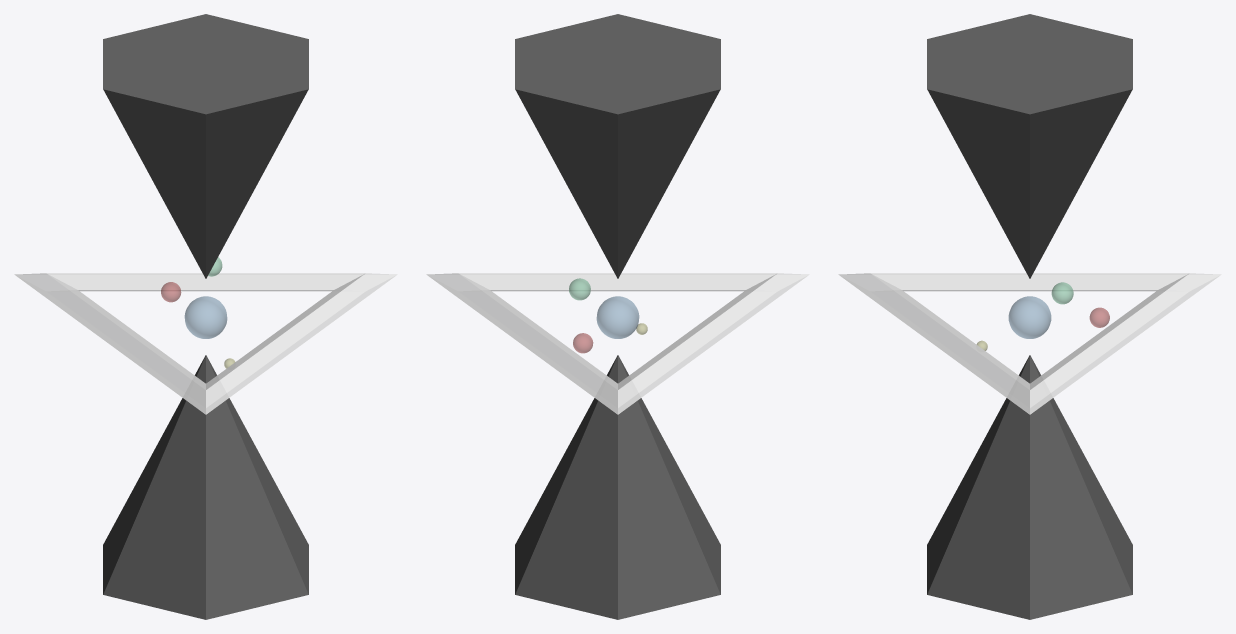
Rendered from orbit.fbx.
3 renders of one model, left to right at view 1: azimuth 30°, elevation 25°; view 2: azimuth 150°, elevation 25°; view 3: azimuth 270°, elevation 25°, orthographic.
Visible parts, largest first — view 1: pCone1, pTorus1, pSphere1; view 2: pCone1, pTorus1, pSphere1; view 3: pCone1, pTorus1, pSphere1.
Part boxes in pixels (x1,y1,x2,y2): pCone1: (103, 14, 308, 619); pTorus1: (14, 273, 397, 414); pSphere1: (184, 296, 227, 338); pCone1: (515, 14, 720, 619); pTorus1: (426, 273, 809, 414); pSphere1: (596, 296, 639, 338); pCone1: (927, 14, 1132, 619); pTorus1: (838, 273, 1221, 414); pSphere1: (1008, 296, 1051, 338).
Bounding box in the file's own units: 17.89 × 29.34 × 20.18.
